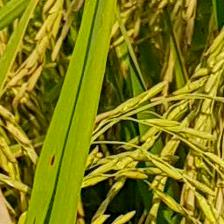0 BrownSpot: (46, 151, 59, 168)
